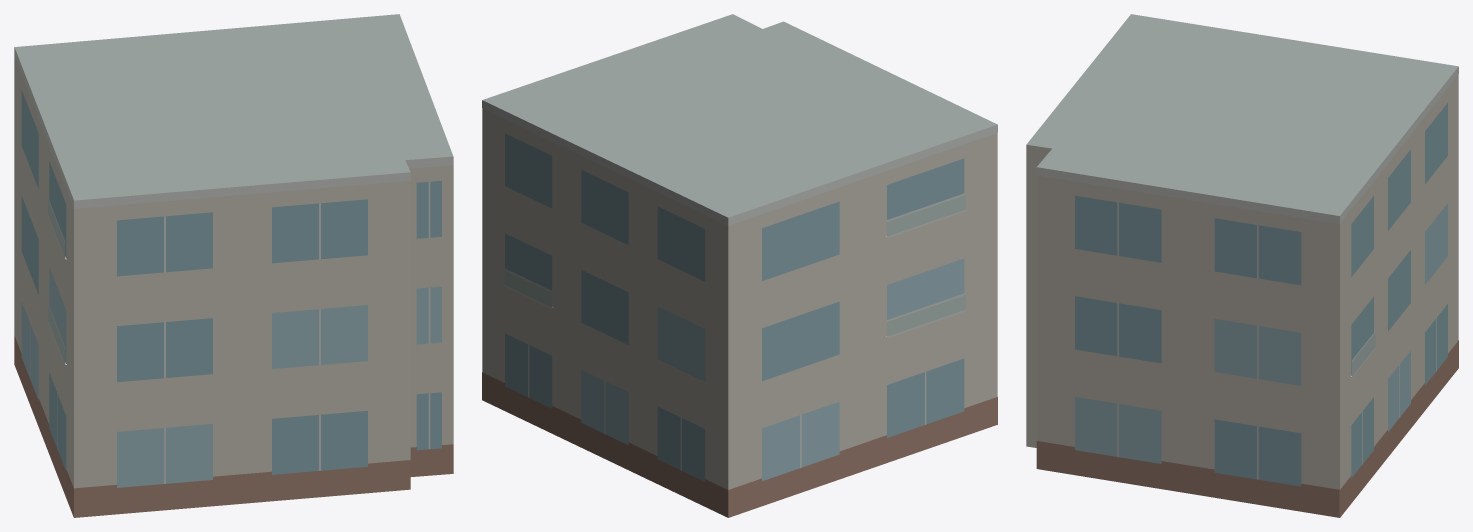
File: survey-upis-32913666.glb
3 views of the same model, side by side, from view 1: azimuth 30°, elevation 25°; view 2: azimuth 150°, elevation 25°; view 3: azimuth 270°, elevation 25° (orthographic). The views are drawn at different scales.
Parts seen in each view (by area): view 1: survey-upis-32913666.tmp; view 2: survey-upis-32913666.tmp; view 3: survey-upis-32913666.tmp.
Part boxes in pixels (bbox=[...]): survey-upis-32913666.tmp: bbox=[14, 14, 453, 517]; survey-upis-32913666.tmp: bbox=[482, 14, 997, 517]; survey-upis-32913666.tmp: bbox=[1026, 14, 1458, 517].
Size of the model in its own units: 13.08 by 9.1 by 11.83.
